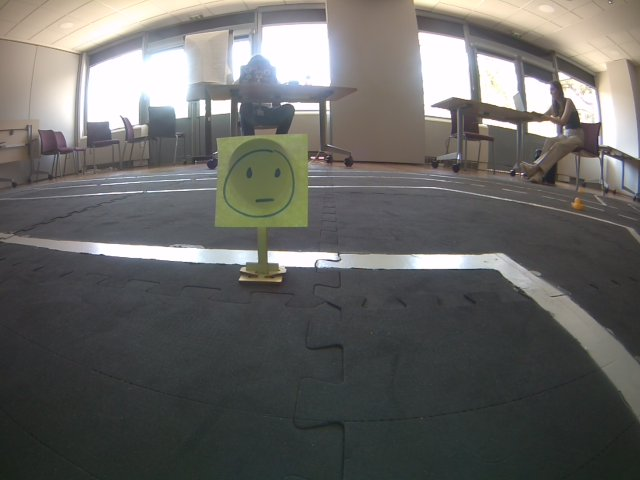Smiley: (215, 136, 312, 228)
